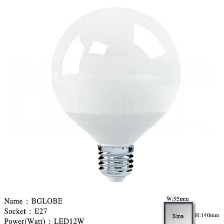light_bulb: (48, 3, 182, 184)
